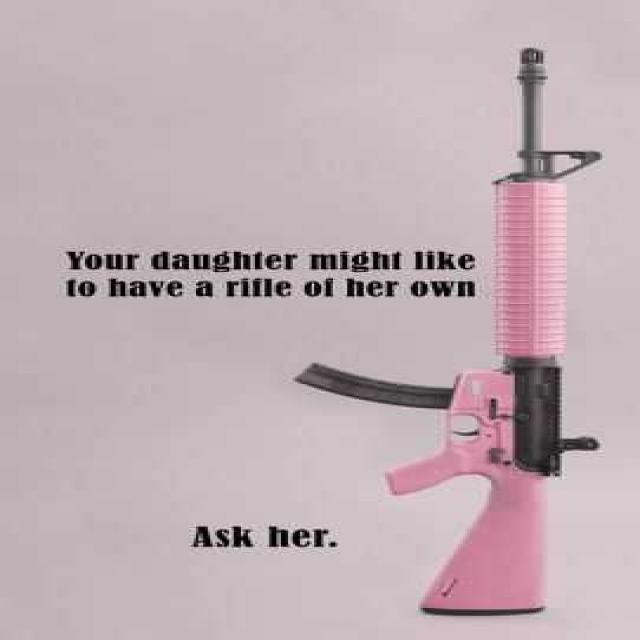weapon: (260, 28, 610, 640)
